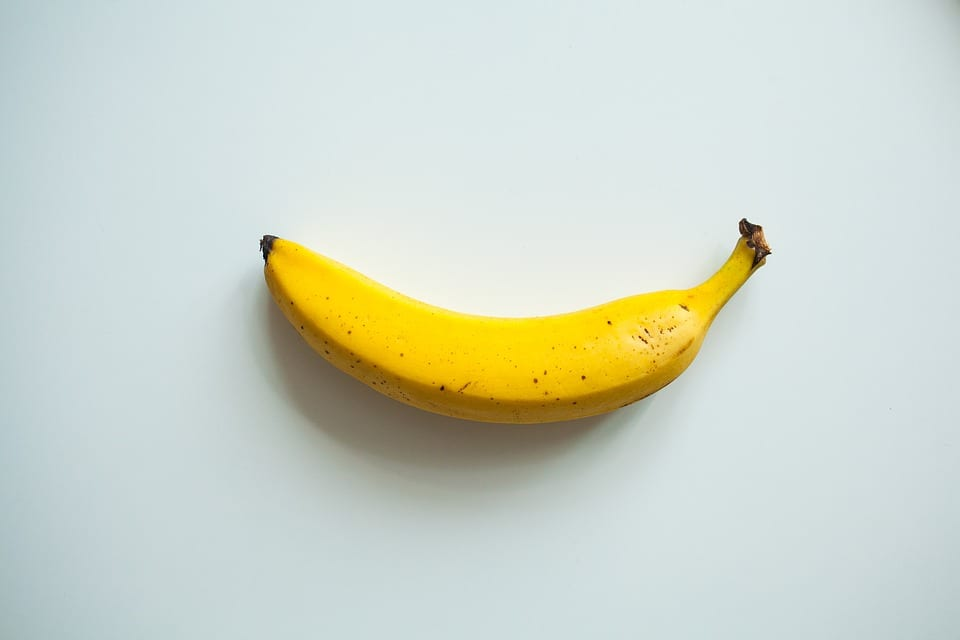banana: (248, 198, 778, 435)
